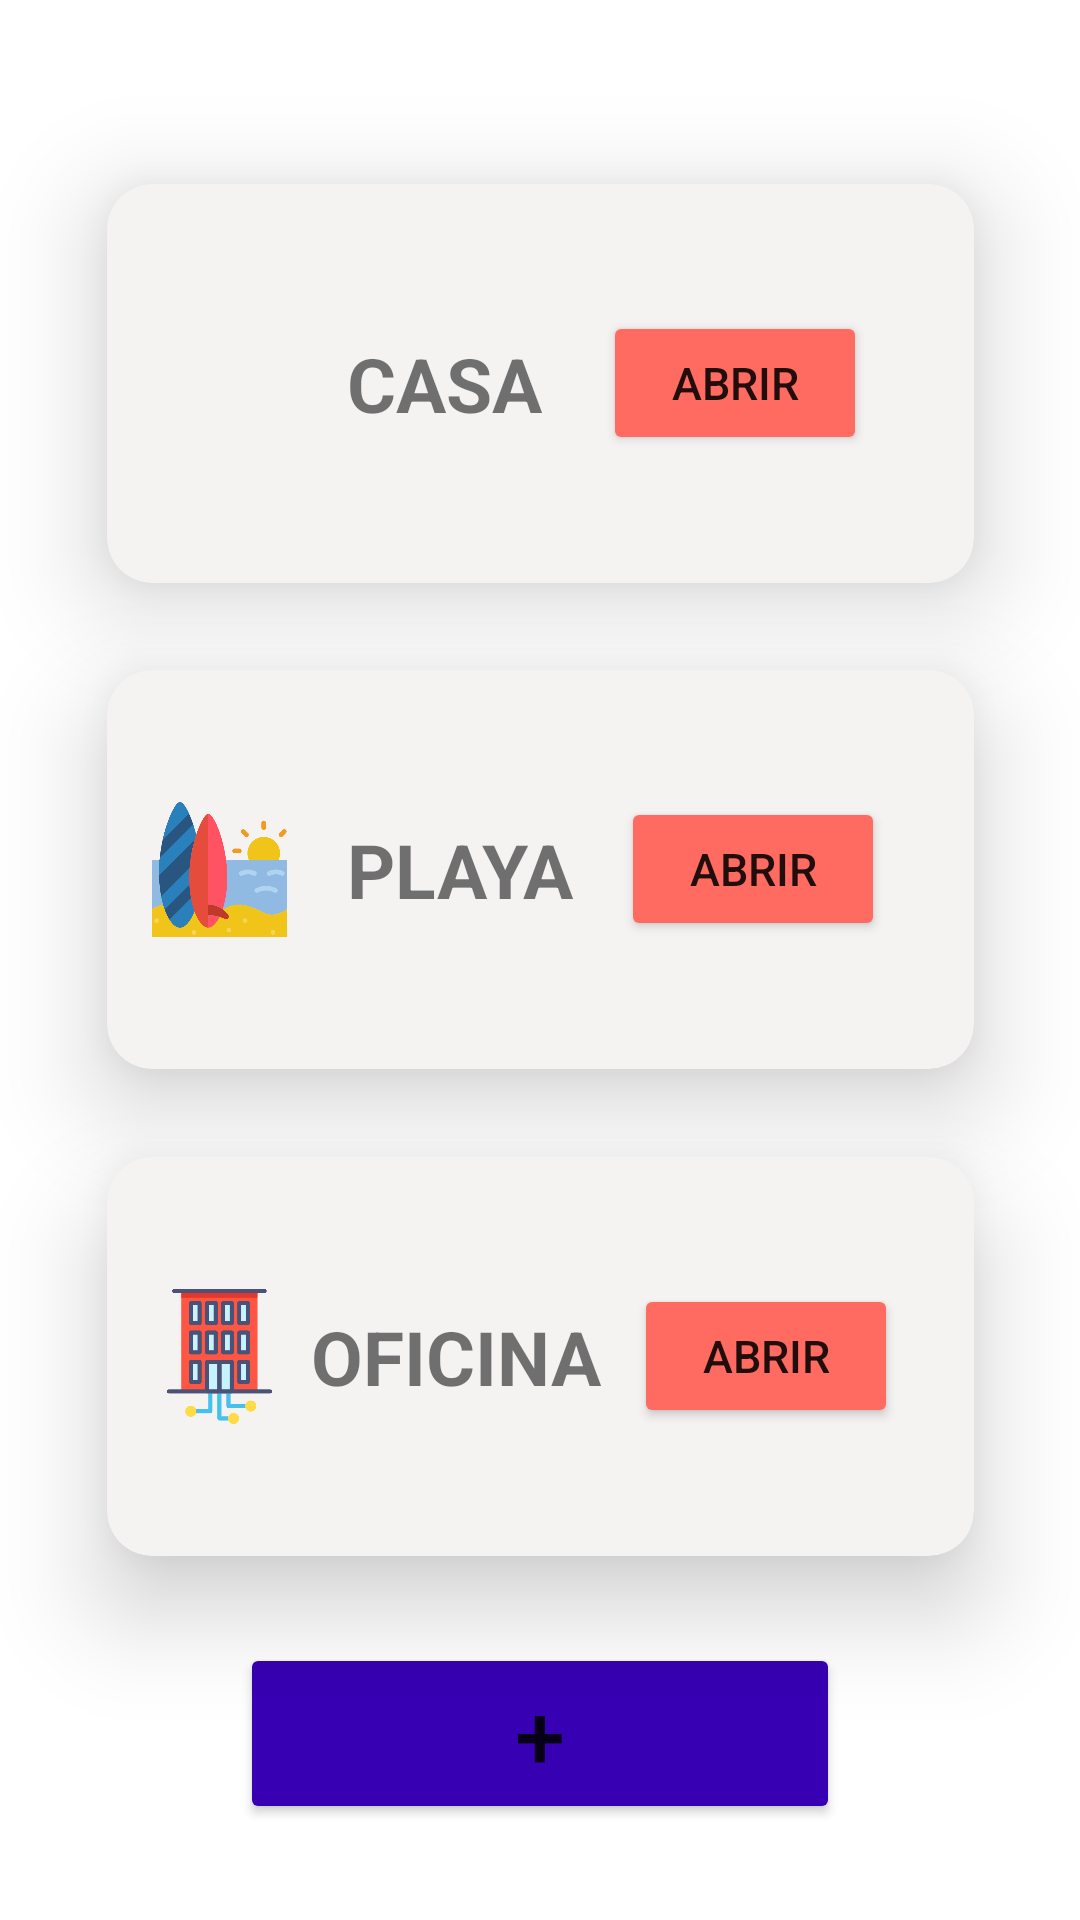

Point at icon controls on the screen. Image size 1080px×1920px, points as (x=x, y=y).
edifice: (x=219, y=1356)
surfboard: (x=219, y=869)
